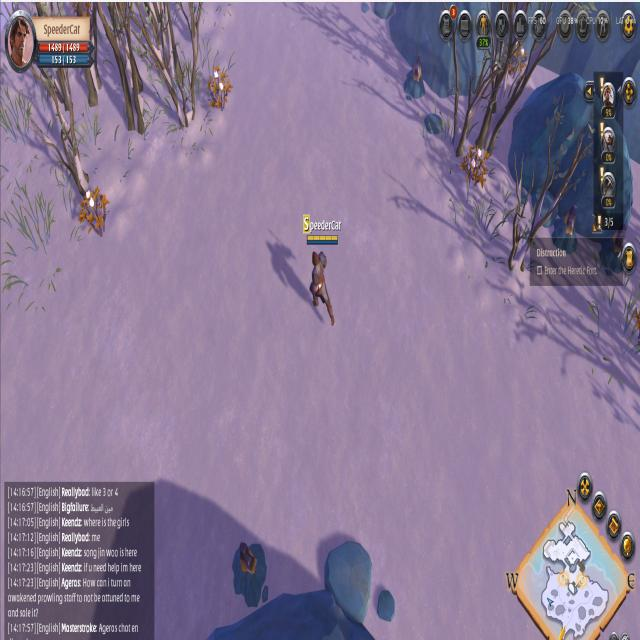copper: (230, 535, 270, 608), (601, 219, 628, 275), (552, 202, 578, 255), (402, 54, 426, 102)
cotton: (77, 184, 110, 244), (204, 66, 232, 116), (462, 141, 488, 191), (506, 36, 528, 80)
